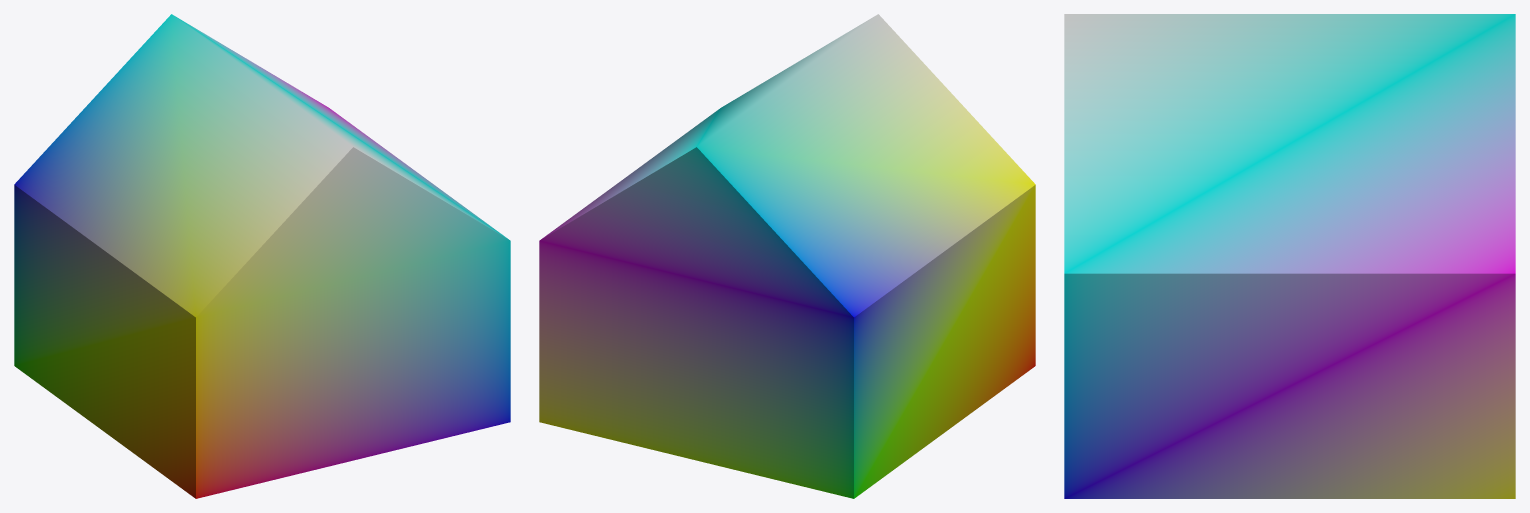
File: House.fbx
The picture shows the model from 3 angles, left to right: view 1: azimuth 30°, elevation 25°; view 2: azimuth 150°, elevation 25°; view 3: azimuth 270°, elevation 25°; orthographic projection. The views are drawn at different scales.
Visible parts, largest first — view 1: pCube1; view 2: pCube1; view 3: pCube1.
Part boxes in pixels (box(x1,y1,x2,y2)): pCube1: box(14, 14, 510, 498); pCube1: box(539, 14, 1035, 498); pCube1: box(1064, 14, 1515, 498).
Size of the model in its own units: 1 by 0.9519 by 1.
